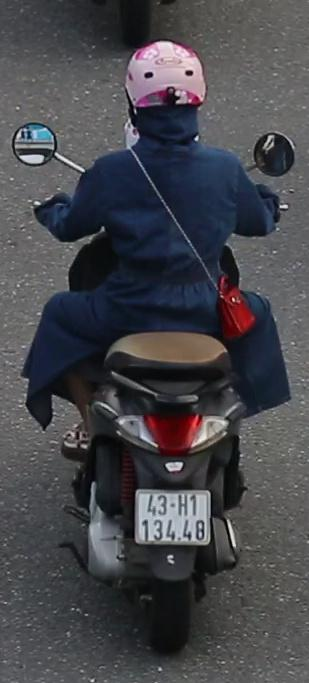LP: (132, 487, 214, 550)
helmet: (113, 36, 221, 159)
